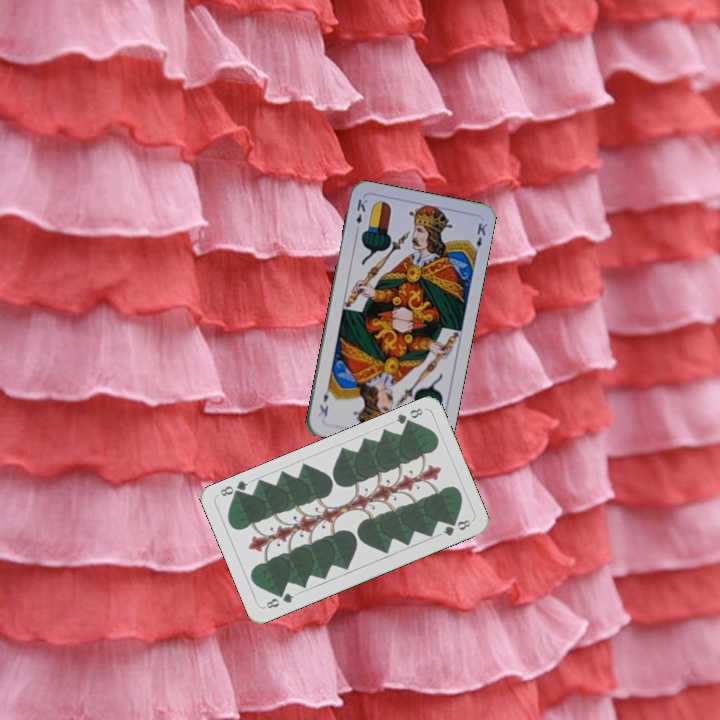EK: (351, 195, 370, 235)
G8: (391, 404, 425, 430), (260, 589, 297, 611)
